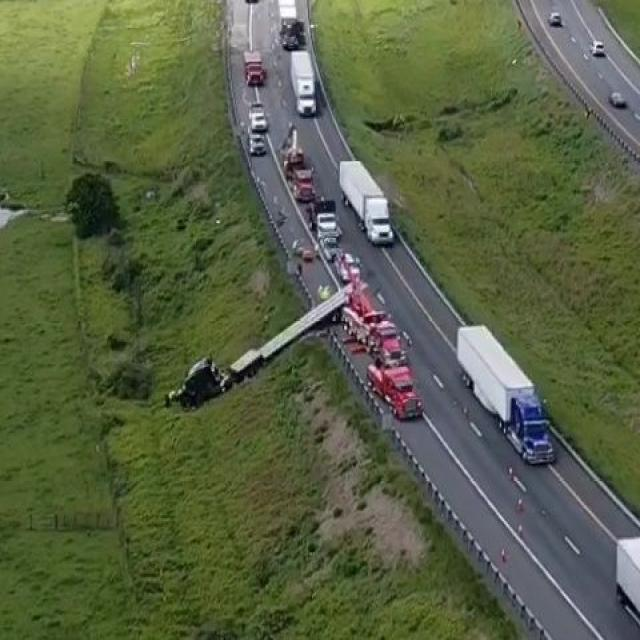traffic_incident: (160, 272, 380, 418)
